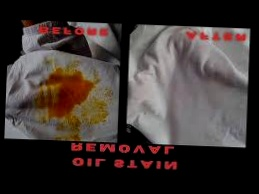oil: (29, 59, 109, 126), (56, 86, 113, 140)
